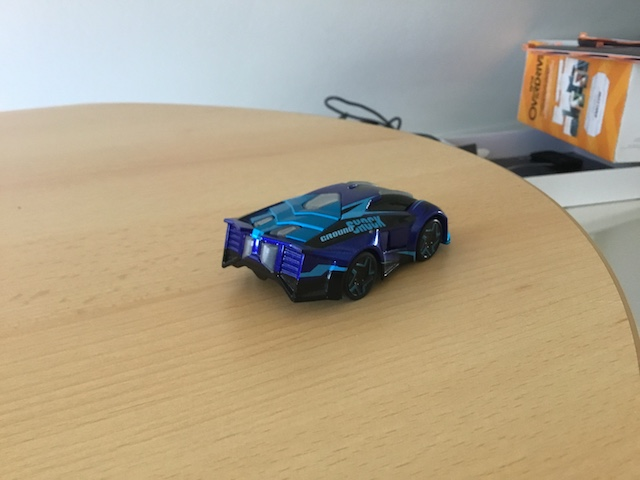car-blue: (217, 176, 454, 309)
